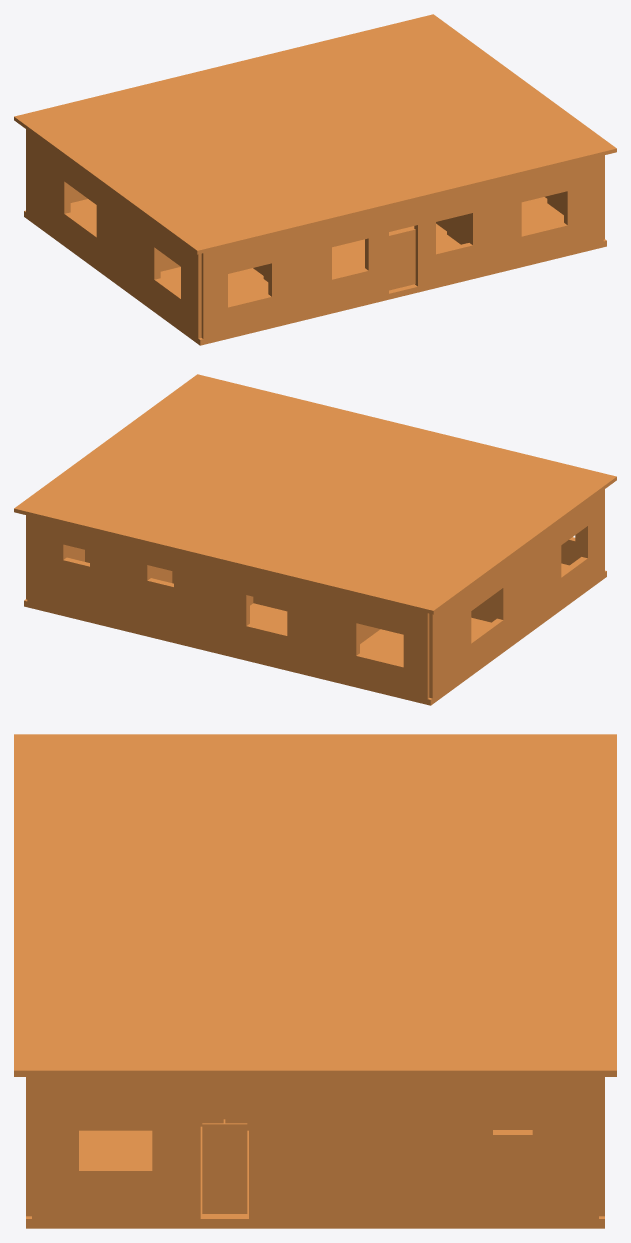
File: ProjectZ_RP16_RuralPoliceStation_Collision.glb
3 renders of one model, top to bottom at view 1: azimuth 30°, elevation 25°; view 2: azimuth 150°, elevation 25°; view 3: azimuth 270°, elevation 25°, orthographic. The views are drawn at different scales.
Parts seen in each view (by area): view 1: COL_Roof_Panel_REMOVABLE_11_8p25x6p25__proxy_01, COL_Roof_Panel_REMOVABLE_21_8p25x6p25__proxy_01, COL_Roof_Panel_REMOVABLE_12_8p25x6p25__proxy_01, COL_Roof_Panel_REMOVABLE_22_8p25x6p25__proxy_01, COL_Foundation_ReinforcedConcrete_Slab16x12__proxy_01, COL_Facade_South_EntryAndWindows__proxy_08, COL_Facade_West_Windowed__proxy_02, COL_Facade_South_EntryAndWindows__proxy_02, COL_Facade_West_Windowed__proxy_03, COL_Facade_South_EntryAndWindows__proxy_04, COL_Facade_South_EntryAndWindows__proxy_10, COL_Facade_South_EntryAndWindows__proxy_01 (+12 smaller); view 2: COL_Roof_Panel_REMOVABLE_12_8p25x6p25__proxy_01, COL_Roof_Panel_REMOVABLE_22_8p25x6p25__proxy_01, COL_Roof_Panel_REMOVABLE_11_8p25x6p25__proxy_01, COL_Roof_Panel_REMOVABLE_21_8p25x6p25__proxy_01, COL_Facade_North_Back__proxy_02, COL_Foundation_ReinforcedConcrete_Slab16x12__proxy_01, COL_Facade_West_Windowed__proxy_02, COL_Facade_North_Back__proxy_04, COL_Facade_North_Back__proxy_07, COL_Facade_West_Windowed__proxy_03, COL_Facade_North_Back__proxy_08, COL_Facade_North_Back__proxy_09 (+10 smaller); view 3: COL_Roof_Panel_REMOVABLE_21_8p25x6p25__proxy_01, COL_Roof_Panel_REMOVABLE_22_8p25x6p25__proxy_01, COL_Roof_Panel_REMOVABLE_11_8p25x6p25__proxy_01, COL_Roof_Panel_REMOVABLE_12_8p25x6p25__proxy_01, COL_Facade_East_ServiceExit__proxy_06, COL_Foundation_ReinforcedConcrete_Slab16x12__proxy_01, COL_Facade_East_ServiceExit__proxy_07, COL_Facade_East_ServiceExit__proxy_01, COL_Facade_East_ServiceExit__proxy_02, COL_Facade_East_ServiceExit__proxy_04, COL_DOOR_Exit_ServiceExteriorMetal, COL_Facade_East_ServiceExit__proxy_08 (+5 smaller).
Boxes of the visible parts, <box> form: COL_Roof_Panel_REMOVABLE_11_8p25x6p25__proxy_01: <box>105,132,407,254</box>; COL_Roof_Panel_REMOVABLE_21_8p25x6p25__proxy_01: <box>316,81,616,203</box>; COL_Roof_Panel_REMOVABLE_12_8p25x6p25__proxy_01: <box>14,65,314,186</box>; COL_Roof_Panel_REMOVABLE_22_8p25x6p25__proxy_01: <box>224,14,524,132</box>; COL_Foundation_ReinforcedConcrete_Slab16x12__proxy_01: <box>24,197,606,345</box>; COL_Facade_South_EntryAndWindows__proxy_08: <box>389,155,603,231</box>; COL_Facade_West_Windowed__proxy_02: <box>26,186,180,325</box>; COL_Facade_South_EntryAndWindows__proxy_02: <box>228,268,388,332</box>; COL_Facade_West_Windowed__proxy_03: <box>26,129,180,266</box>; COL_Facade_South_EntryAndWindows__proxy_04: <box>268,222,331,296</box>; COL_Facade_South_EntryAndWindows__proxy_10: <box>436,233,521,282</box>; COL_Facade_South_EntryAndWindows__proxy_01: <box>201,247,227,338</box>; COL_Roof_Panel_REMOVABLE_12_8p25x6p25__proxy_01: <box>223,492,525,614</box>; COL_Roof_Panel_REMOVABLE_22_8p25x6p25__proxy_01: <box>14,441,314,563</box>; COL_Roof_Panel_REMOVABLE_11_8p25x6p25__proxy_01: <box>316,425,616,546</box>; COL_Roof_Panel_REMOVABLE_21_8p25x6p25__proxy_01: <box>106,374,406,492</box>; COL_Facade_North_Back__proxy_02: <box>27,575,403,693</box>; COL_Foundation_ReinforcedConcrete_Slab16x12__proxy_01: <box>24,563,606,705</box>; COL_Facade_West_Windowed__proxy_02: <box>429,557,587,698</box>; COL_Facade_North_Back__proxy_04: <box>287,579,359,655</box>; COL_Facade_North_Back__proxy_07: <box>174,551,249,625</box>; COL_Facade_West_Windowed__proxy_03: <box>429,502,587,639</box>; COL_Facade_North_Back__proxy_08: <box>27,551,173,608</box>; COL_Facade_North_Back__proxy_09: <box>27,515,173,571</box>; COL_Roof_Panel_REMOVABLE_21_8p25x6p25__proxy_01: <box>14,902,315,1076</box>; COL_Roof_Panel_REMOVABLE_22_8p25x6p25__proxy_01: <box>315,902,616,1076</box>; COL_Roof_Panel_REMOVABLE_11_8p25x6p25__proxy_01: <box>14,734,315,902</box>; COL_Roof_Panel_REMOVABLE_12_8p25x6p25__proxy_01: <box>315,734,616,902</box>; COL_Facade_East_ServiceExit__proxy_06: <box>249,1077,492,1218</box>; COL_Foundation_ReinforcedConcrete_Slab16x12__proxy_01: <box>26,1119,604,1228</box>; COL_Facade_East_ServiceExit__proxy_07: <box>493,1130,598,1218</box>; COL_Facade_East_ServiceExit__proxy_01: <box>32,1077,78,1218</box>; COL_Facade_East_ServiceExit__proxy_02: <box>79,1165,200,1218</box>; COL_Facade_East_ServiceExit__proxy_04: <box>152,1077,200,1170</box>; COL_DOOR_Exit_ServiceExteriorMetal: <box>202,1123,247,1213</box>; COL_Facade_East_ServiceExit__proxy_08: <box>493,1077,598,1111</box>.
Size of the model in its own units: 16.5 by 3.73 by 12.5.
